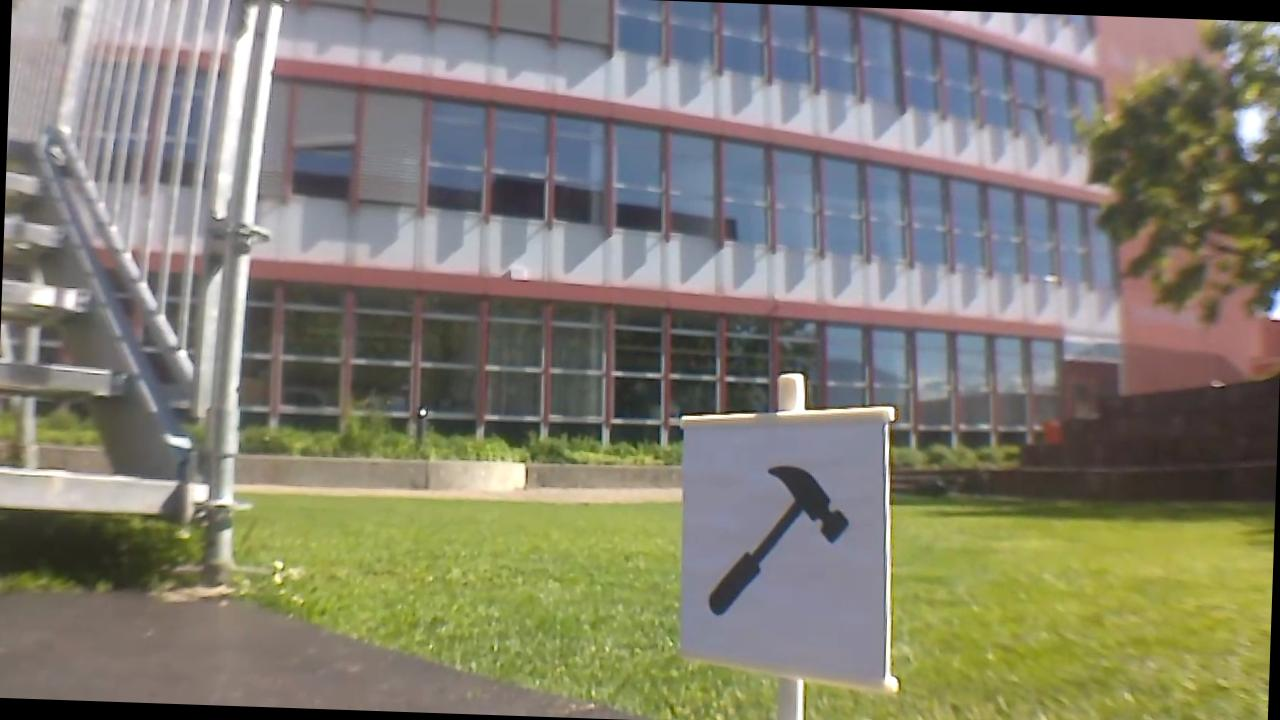hammer: (701, 456, 853, 621)
